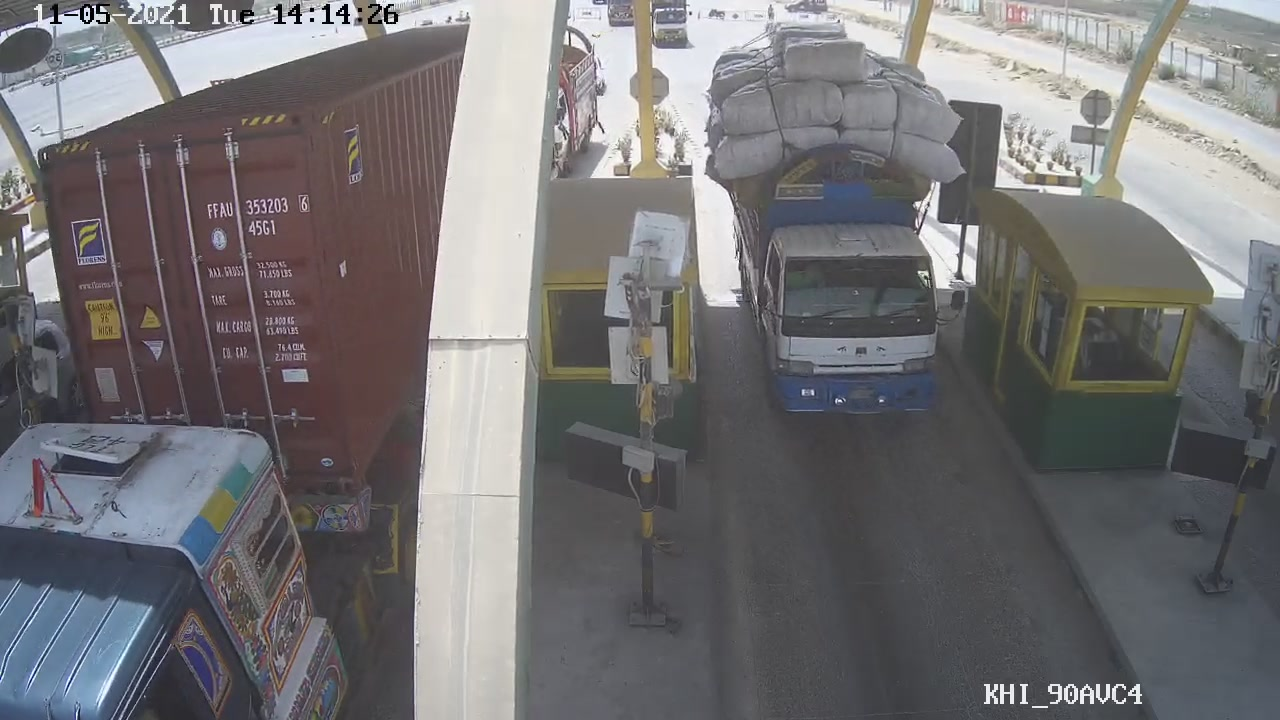F5: (716, 145, 980, 445)
